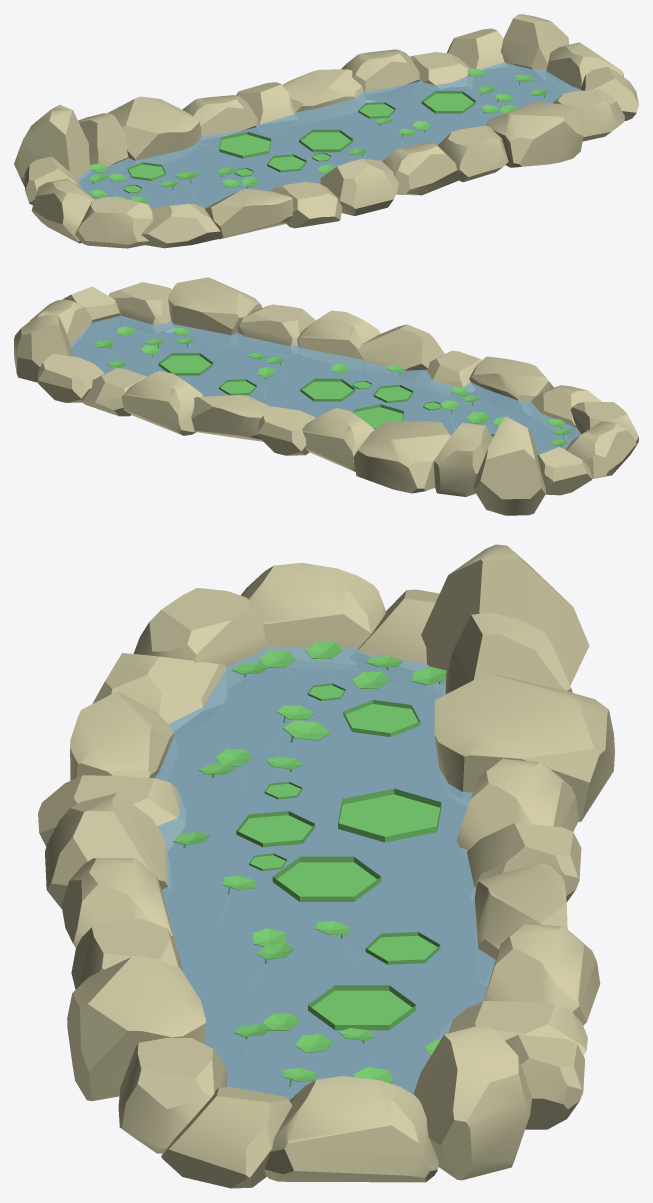
The model's file is Artefak Kolam Ikan.fbx.
3 renders of one model, top to bottom at view 1: azimuth 30°, elevation 25°; view 2: azimuth 150°, elevation 25°; view 3: azimuth 270°, elevation 25°, orthographic. The views are drawn at different scales.
Visible parts, largest first — view 1: Pond_Stone.023; view 2: Pond_Stone.023; view 3: Pond_Stone.023.
Boxes of the visible parts, bbox=[...] form: Pond_Stone.023: bbox=[14, 14, 638, 248]; Pond_Stone.023: bbox=[14, 277, 638, 515]; Pond_Stone.023: bbox=[38, 544, 614, 1188].
Bounding box in the file's own units: 1426 × 192 × 619.
